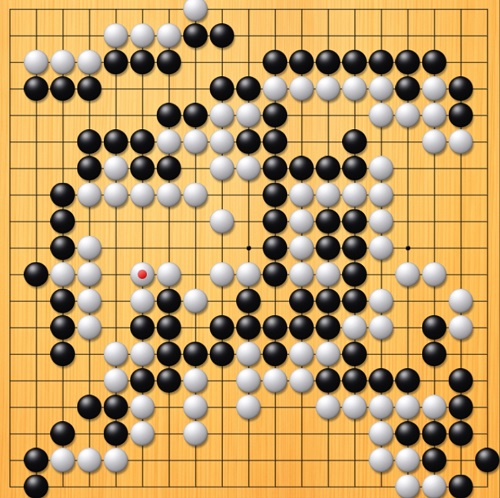black: (22, 261, 48, 287), (22, 446, 48, 472), (22, 75, 48, 101), (49, 234, 75, 260), (49, 287, 75, 313), (49, 314, 75, 340), (49, 340, 75, 366), (49, 420, 75, 446), (49, 75, 75, 101), (49, 181, 75, 207), (49, 208, 75, 234), (75, 393, 101, 419), (76, 75, 102, 101), (75, 128, 101, 154), (76, 154, 102, 180), (102, 393, 128, 419), (102, 420, 128, 446), (102, 48, 128, 74), (102, 128, 128, 154), (129, 314, 155, 340), (128, 367, 154, 393), (129, 48, 155, 74), (129, 154, 155, 180), (155, 287, 181, 313), (155, 314, 181, 340), (155, 340, 181, 366), (155, 367, 181, 393), (155, 48, 181, 74), (155, 101, 181, 127), (155, 154, 181, 180), (182, 340, 208, 366), (182, 22, 208, 48), (182, 101, 208, 127), (208, 314, 234, 340), (208, 340, 234, 366), (208, 22, 234, 48), (208, 75, 234, 101), (235, 287, 261, 313), (235, 314, 261, 340), (235, 75, 261, 101), (235, 128, 261, 154), (261, 234, 287, 260), (261, 261, 287, 287), (261, 314, 287, 340), (261, 340, 287, 366), (261, 48, 287, 74), (261, 101, 287, 127), (261, 128, 287, 154), (261, 154, 287, 180), (261, 181, 287, 207), (261, 208, 287, 234), (288, 287, 314, 313), (288, 314, 314, 340), (288, 48, 314, 74), (288, 154, 314, 180), (314, 234, 340, 260), (314, 287, 340, 313), (314, 314, 340, 340), (314, 367, 340, 393), (314, 48, 340, 74), (314, 154, 340, 180), (314, 208, 340, 234), (341, 234, 367, 260), (341, 260, 367, 286), (341, 287, 367, 313), (341, 340, 367, 366), (341, 367, 367, 393), (341, 48, 367, 74), (341, 128, 367, 154), (341, 154, 367, 180), (341, 207, 367, 233), (367, 367, 393, 393), (367, 48, 393, 74), (394, 367, 420, 393), (394, 420, 420, 446), (394, 48, 420, 74), (394, 75, 420, 101), (420, 314, 446, 340), (420, 340, 446, 366), (420, 420, 446, 446), (421, 446, 447, 472), (421, 47, 447, 73), (447, 367, 473, 393), (447, 393, 473, 419), (447, 75, 473, 101), (447, 101, 473, 127), (474, 447, 500, 473), (22, 473, 48, 498), (447, 473, 473, 498)
white: (22, 47, 48, 73), (48, 259, 74, 285), (48, 445, 74, 471), (48, 47, 74, 73), (74, 233, 100, 259), (75, 259, 101, 285), (74, 285, 100, 311), (75, 312, 101, 338), (75, 445, 101, 471), (74, 47, 100, 73), (74, 180, 100, 206), (101, 339, 127, 365), (101, 365, 127, 391), (101, 445, 127, 471), (101, 20, 127, 46), (101, 153, 127, 179), (101, 180, 127, 206), (128, 259, 154, 285), (128, 286, 154, 312), (128, 339, 154, 365), (128, 392, 154, 418), (128, 418, 154, 444), (128, 20, 154, 46), (131, 126, 157, 152), (127, 179, 153, 205), (154, 259, 180, 285), (154, 20, 180, 46), (153, 126, 179, 152), (154, 179, 180, 205), (181, 285, 207, 311), (181, 366, 207, 392), (181, 392, 207, 418), (181, 418, 207, 444), (181, 127, 207, 153), (181, 180, 207, 206), (207, 259, 233, 285), (207, 100, 233, 126), (207, 126, 233, 152), (207, 152, 233, 178), (207, 206, 233, 232), (234, 259, 260, 285), (233, 339, 259, 365), (234, 366, 260, 392), (234, 392, 260, 418), (233, 100, 259, 126), (233, 153, 259, 179), (260, 365, 286, 391), (260, 73, 286, 99), (286, 233, 312, 259), (287, 259, 313, 285), (287, 339, 313, 365), (287, 366, 313, 392), (287, 74, 313, 100), (287, 180, 313, 206), (287, 206, 313, 232), (313, 259, 339, 285), (313, 339, 339, 365), (313, 392, 339, 418), (314, 74, 340, 100), (313, 180, 339, 206), (340, 313, 366, 339), (340, 392, 366, 418), (339, 74, 365, 100), (340, 180, 366, 206), (366, 233, 392, 259), (366, 286, 392, 312), (367, 313, 393, 339), (366, 392, 392, 418), (367, 419, 393, 445), (366, 445, 392, 471), (366, 73, 392, 99), (366, 100, 392, 126), (367, 153, 393, 179), (367, 180, 393, 206), (366, 206, 392, 232), (393, 259, 419, 285), (393, 392, 419, 418), (393, 445, 419, 471), (393, 472, 419, 498), (393, 100, 419, 126), (420, 260, 446, 286), (420, 392, 446, 418), (420, 472, 446, 498), (420, 74, 446, 100), (420, 100, 446, 126), (420, 127, 446, 153), (446, 286, 472, 312), (446, 312, 472, 338), (443, 414, 469, 440), (446, 127, 472, 153), (181, 1, 207, 20)
